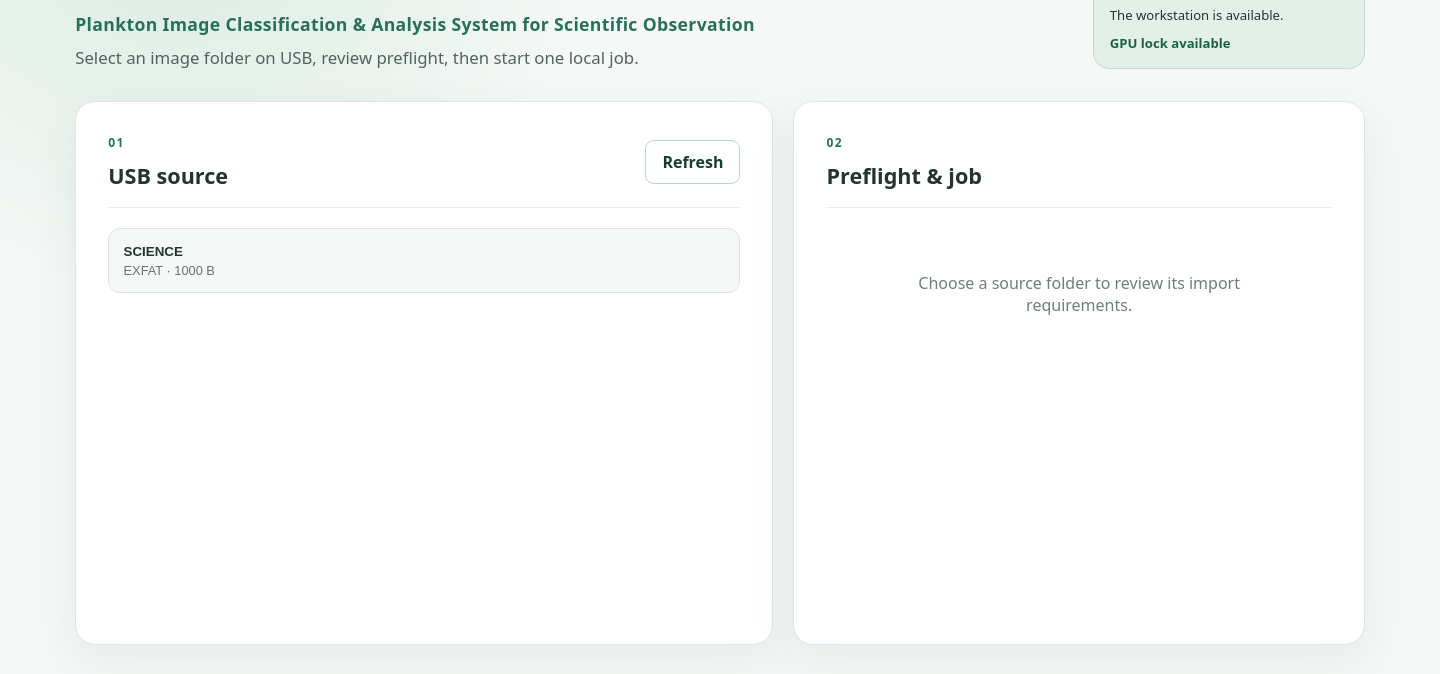
Test: busy Preflight explains manual Files closure on any desktop and never retries automatically
(page scrolled)
Click the button "SCIENCE EXFAT · 1000 B".
click(153, 251)  # box [108,228,740,293]
(page scrolled)
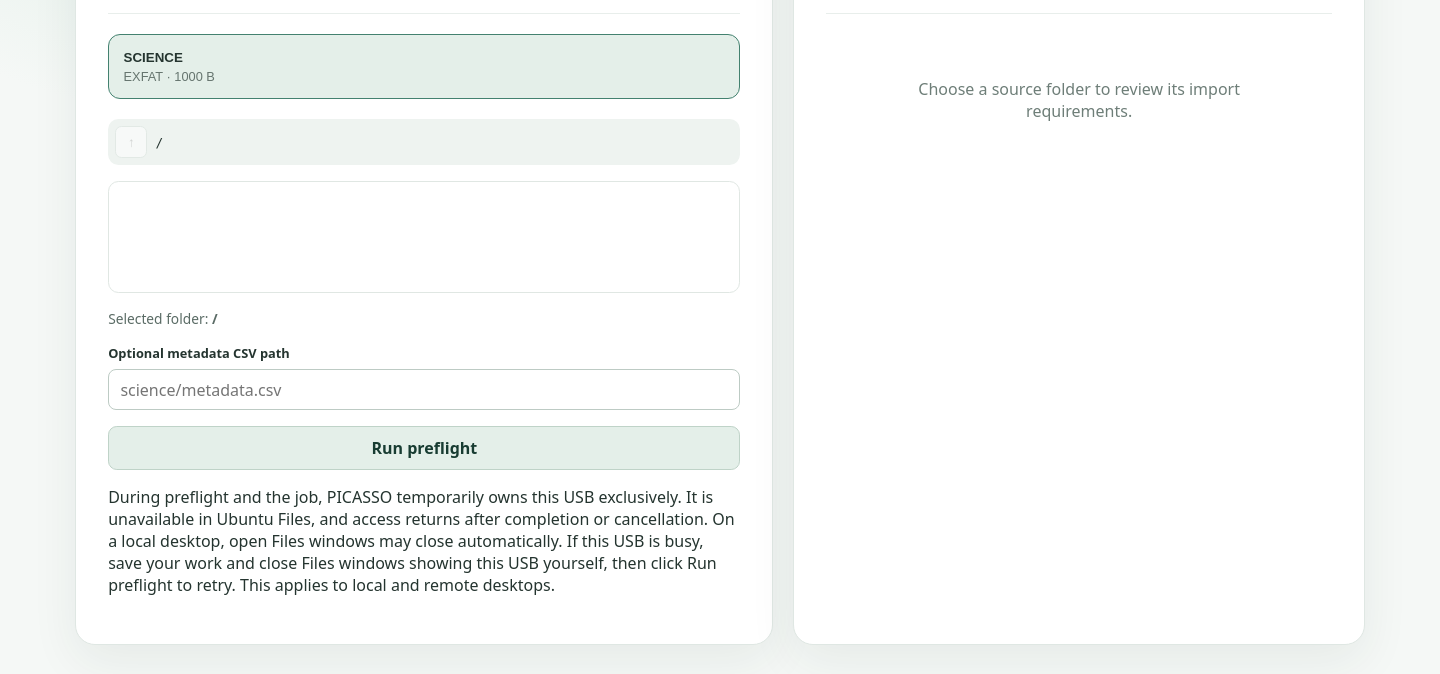
expect the text "If this USB is busy, save your work and close Files windows" shows "then click Run preflight to retry.": met, box [108,486,735,596]
expect the text "If this USB is busy, save your work and close Files windows" shows "This applies to local and remote desktops.": met, box [108,486,735,596]
Click the button "Run preflight".
click(424, 448)  # box [108,426,740,470]
(page scrolled)
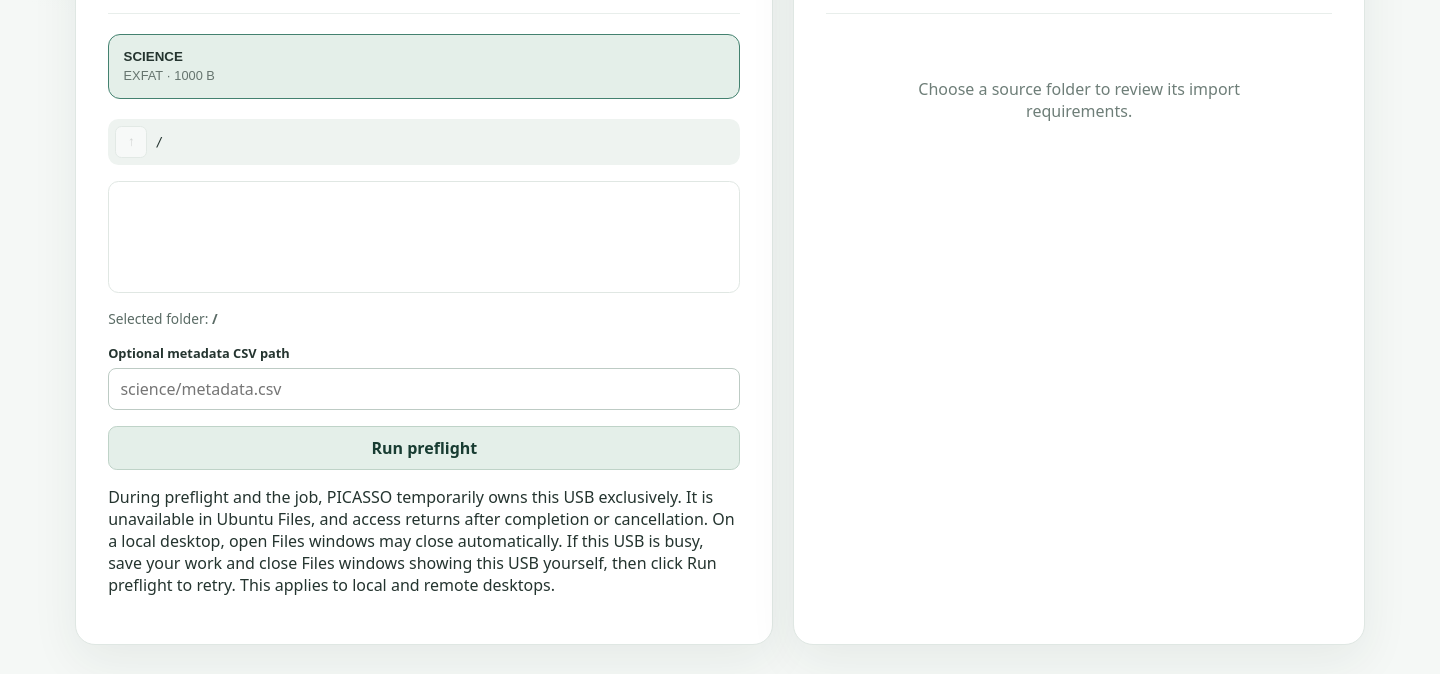
expect the button "Confirm and start" is not shown: met
expect the button "Run preflight" is enabled: met
Click the button "Run preflight".
click(424, 448)  # box [108,426,740,470]
(page scrolled)
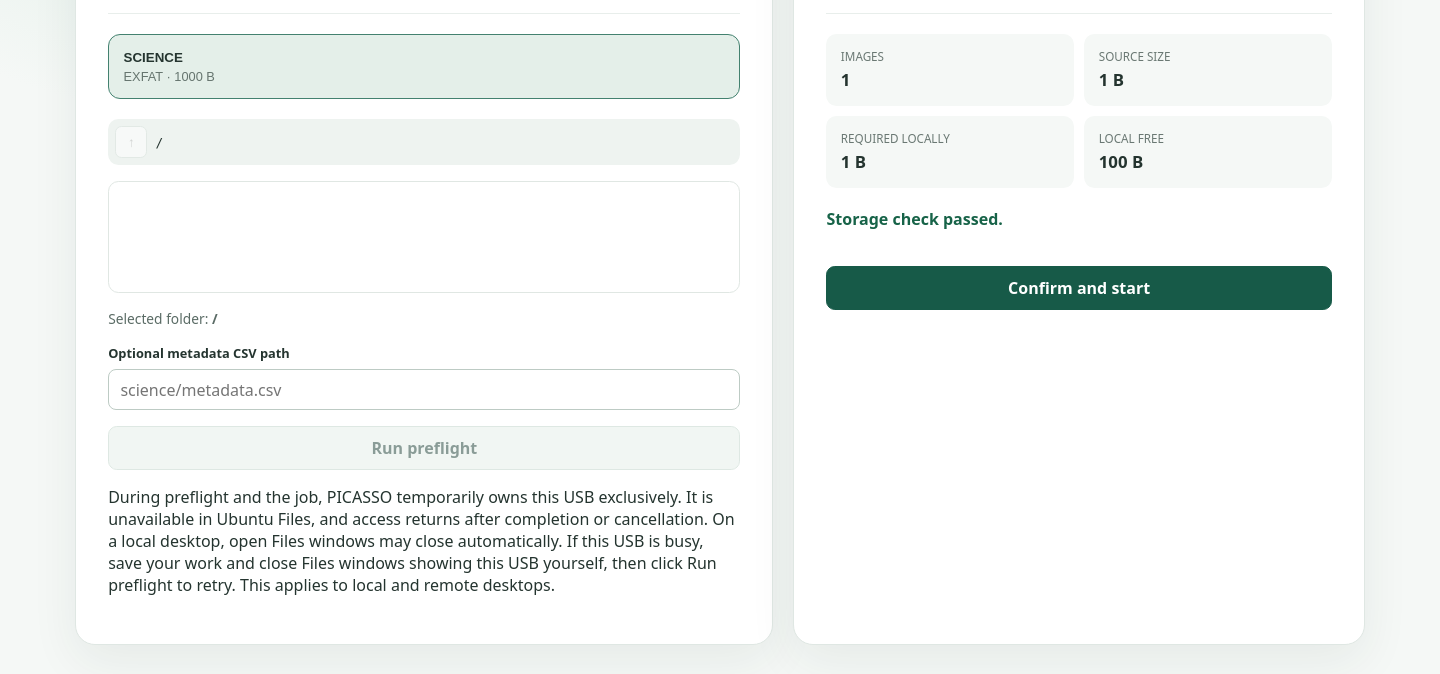
expect the button "Confirm and start" is shown: met, box [826,266,1332,310]
